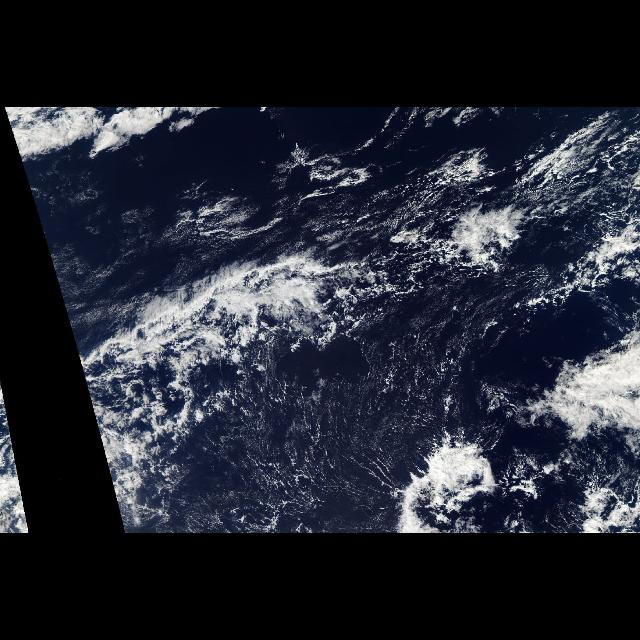Fish: (42, 154, 640, 438)
